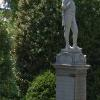Statue: (49, 1, 85, 62)
